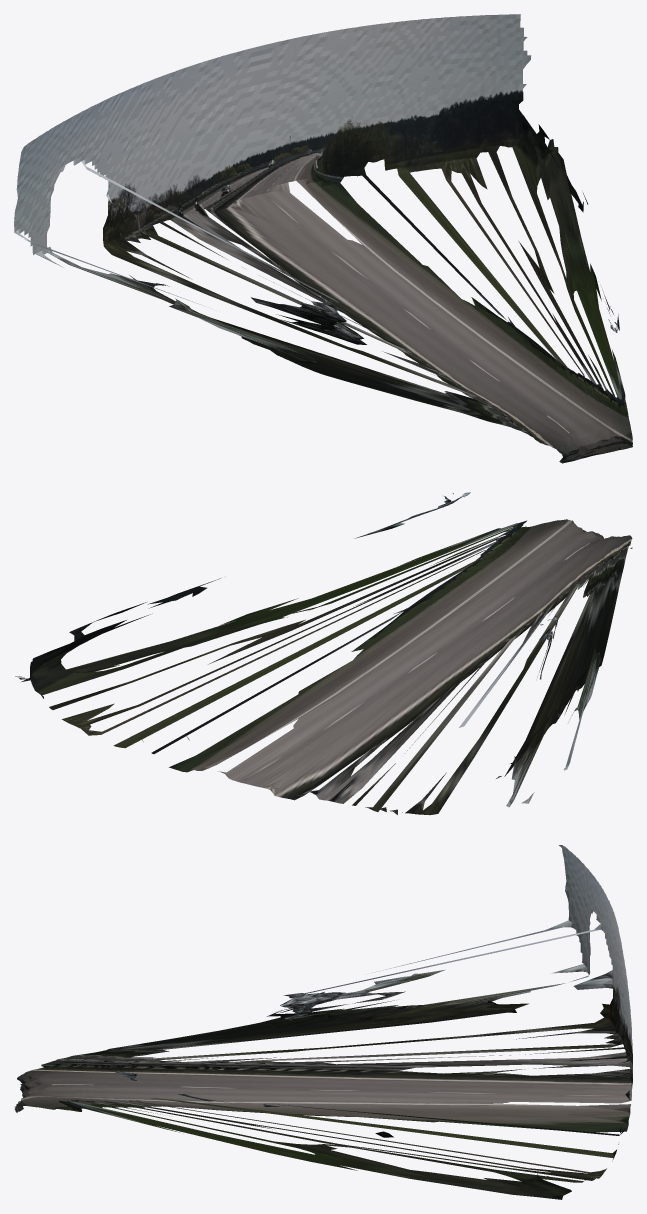
3 renders of one model, top to bottom at view 1: azimuth 30°, elevation 25°; view 2: azimuth 150°, elevation 25°; view 3: azimuth 270°, elevation 25°, orthographic. The views are drawn at different scales.
Visible parts, largest first — view 1: defaultobject; view 2: defaultobject; view 3: defaultobject.
Part boxes in pixels (<box>): defaultobject: <box>14,14,632,463</box>; defaultobject: <box>15,492,632,815</box>; defaultobject: <box>14,845,632,1199</box>.
Size of the model in its own units: 40.11 by 11.77 by 44.43.
1 material, 1 textured.
